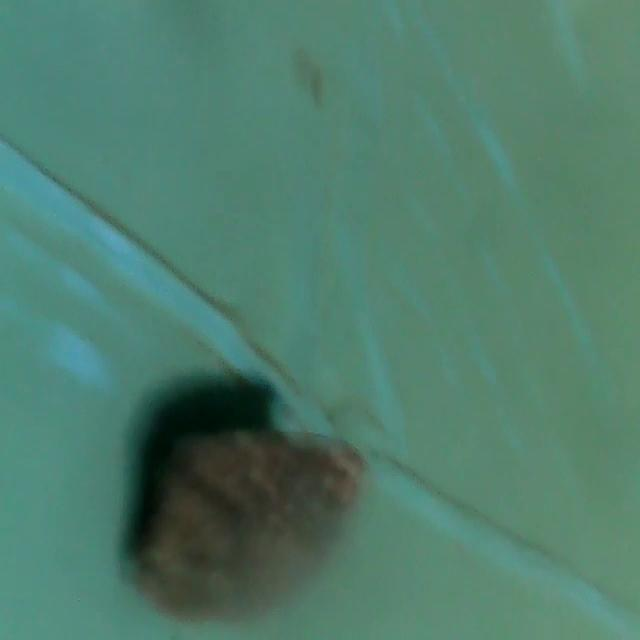rock: (118, 420, 355, 614)
